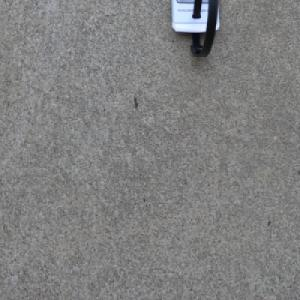LuggageTag: (168, 0, 222, 60)
